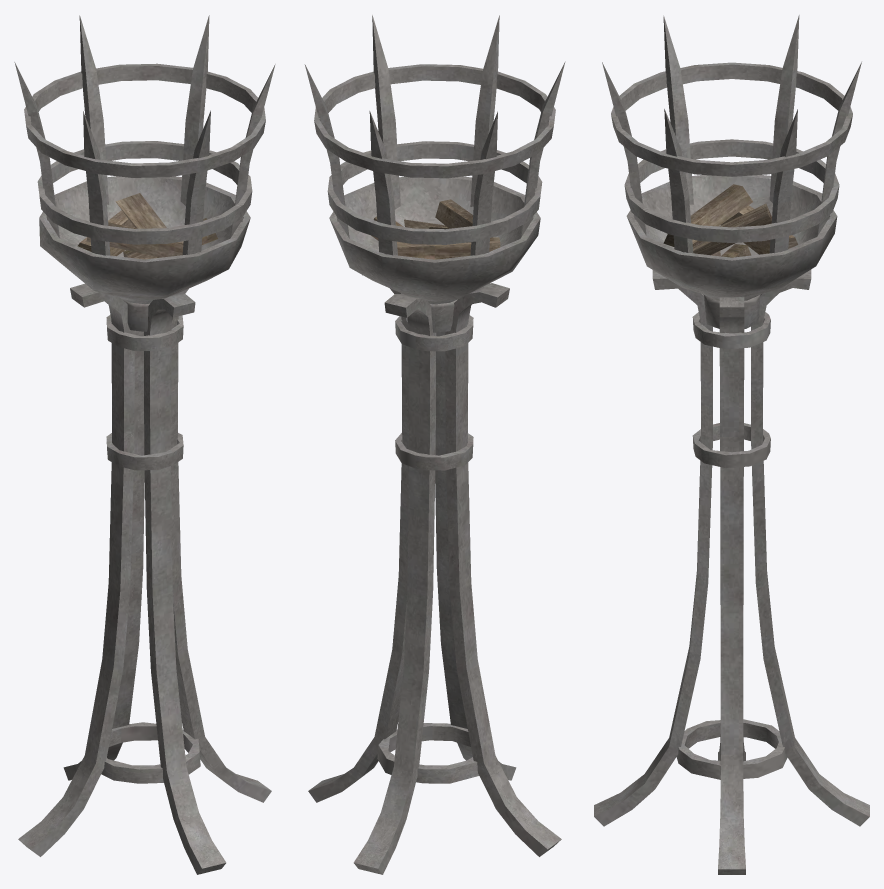
File: SM_pal_b00_building_Lordenfel_Brazier_02_53b7bc.glb
3 renders of one model, left to right at view 1: azimuth 30°, elevation 25°; view 2: azimuth 150°, elevation 25°; view 3: azimuth 270°, elevation 25°, orthographic.
Bounding box in the file's own units: 0.389 × 1.18 × 0.389.
2 materials, 2 textured.
